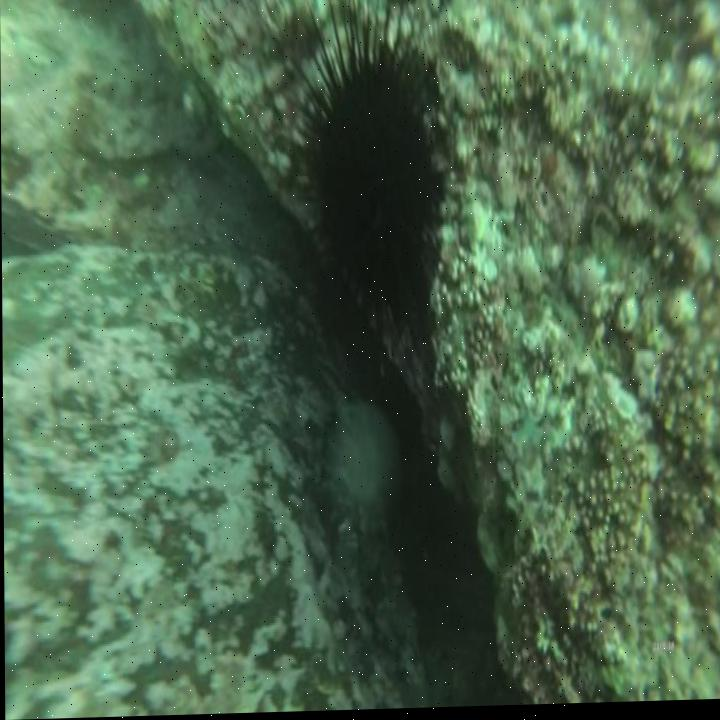echinus: (297, 24, 442, 379)
